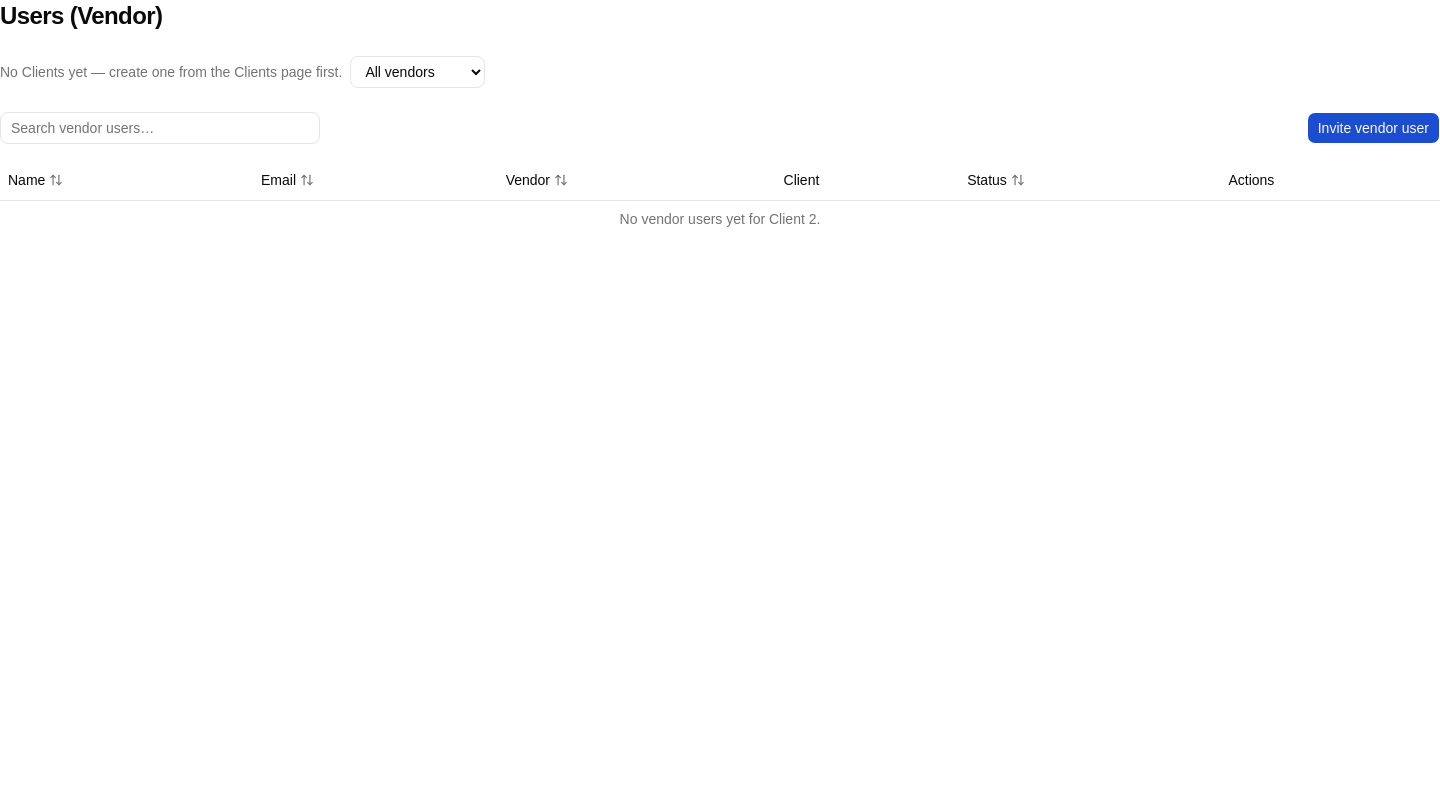
Test: VendorUsersPage › AC: invite/edit flows work end-to-end, scoped by vendor
Click the button "Invite vendor user" at [1373, 128], box x1=1307 y1=112 x2=1439 y2=144
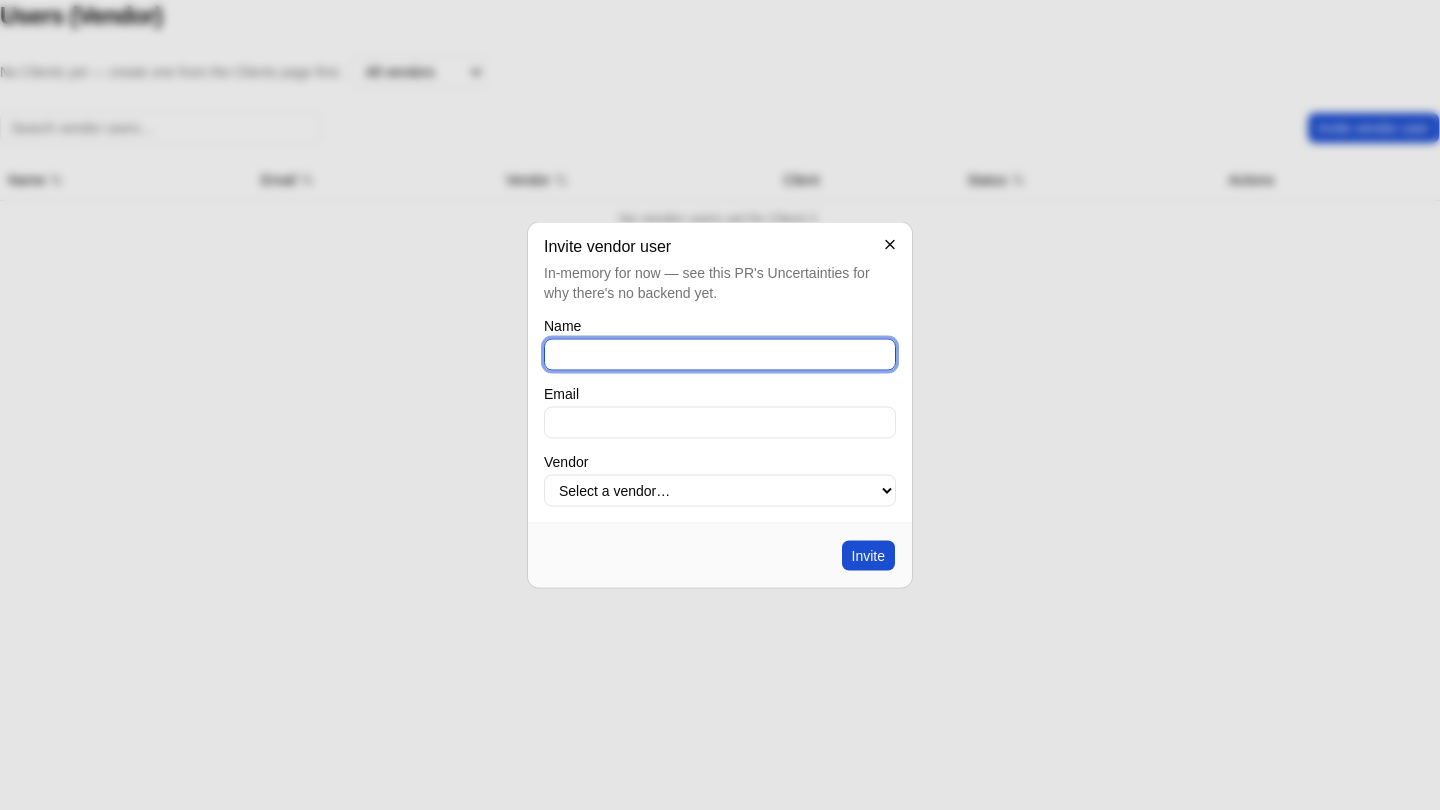
Type "Val Vendor" into the field labelled "Name" at [720, 354], box x1=544 y1=338 x2=896 y2=370
Type "val@acmetrucking.test" into the field labelled "Email" at [720, 422], box x1=544 y1=406 x2=896 y2=438
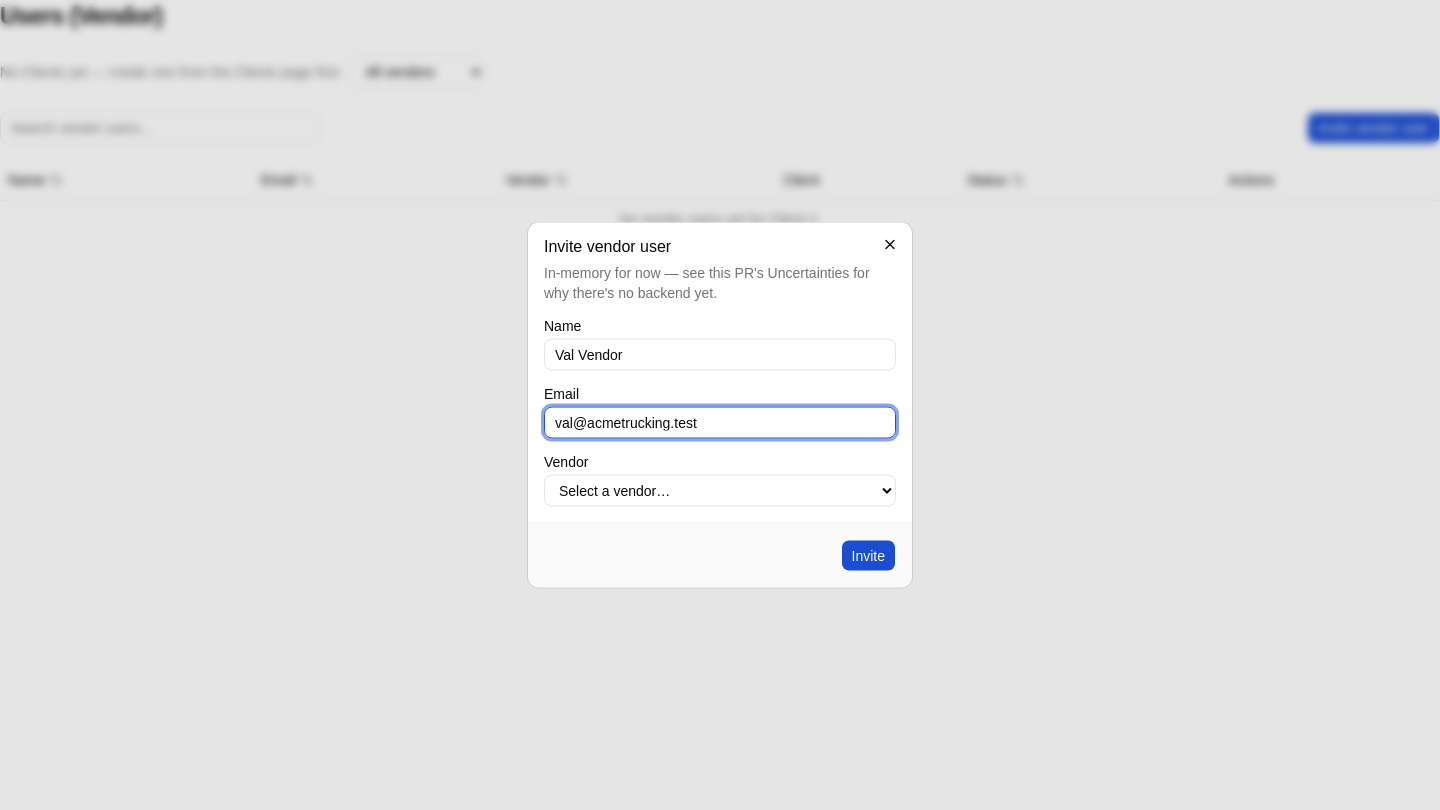
Select "Acme Trucking" in the dropdown labelled "Vendor" at [720, 490], box x1=544 y1=474 x2=896 y2=506
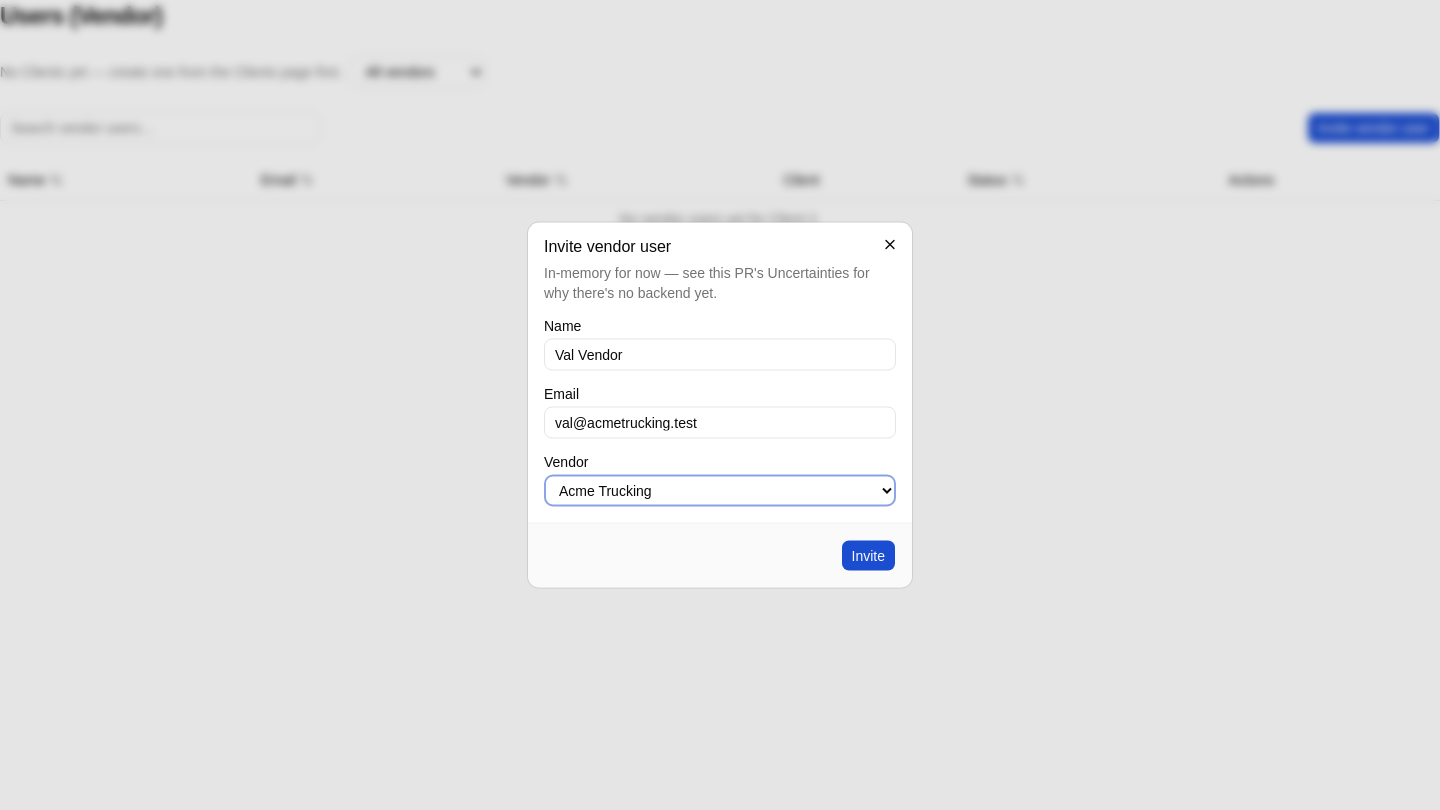
Click the button "Invite" at [868, 556], box x1=840 y1=540 x2=896 y2=572
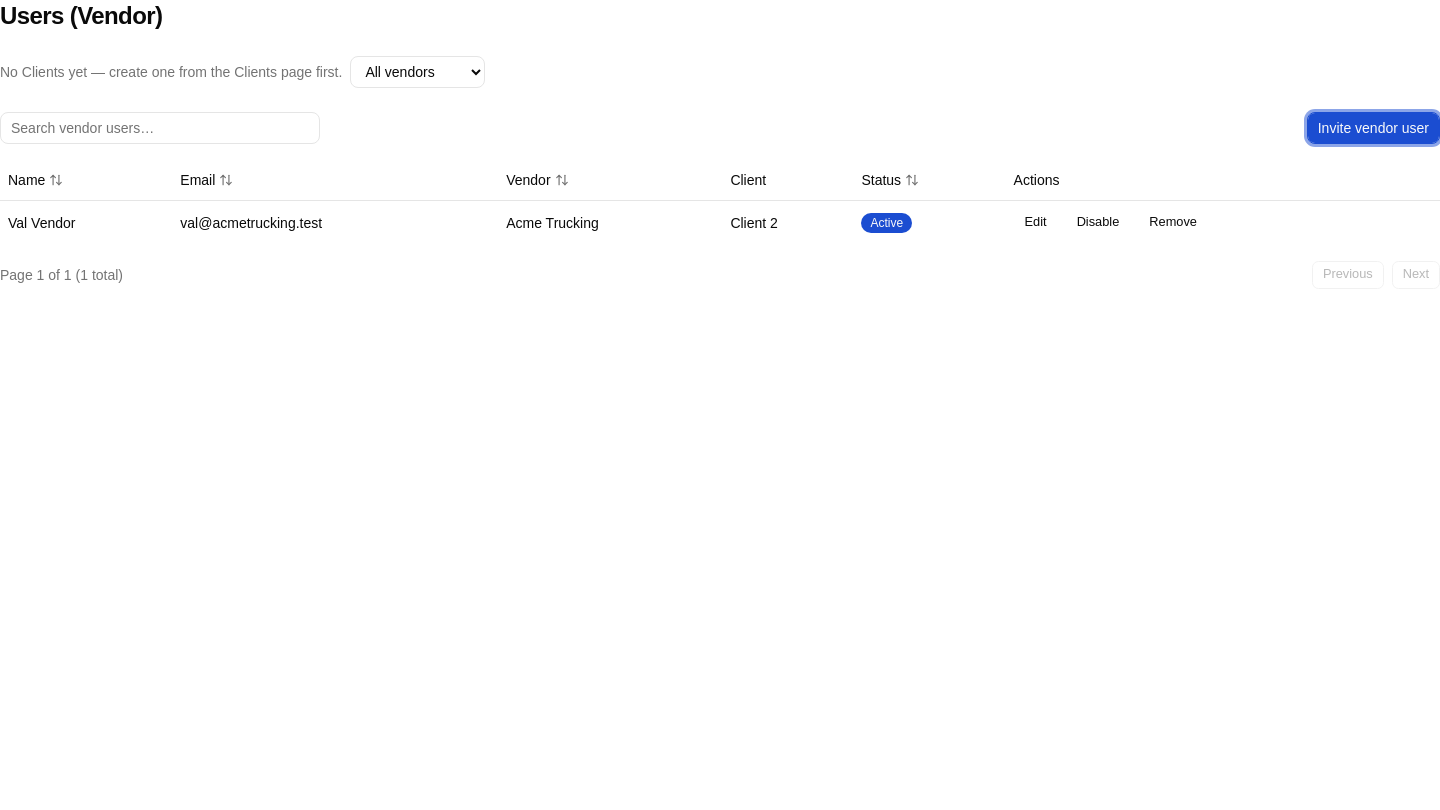
Check: the text "Val Vendor" is shown, box x1=0 y1=200 x2=172 y2=244
Check: the text "Acme Trucking" is shown, box x1=498 y1=200 x2=722 y2=244
Click the button "Edit" at [1036, 222], box x1=1014 y1=208 x2=1058 y2=236
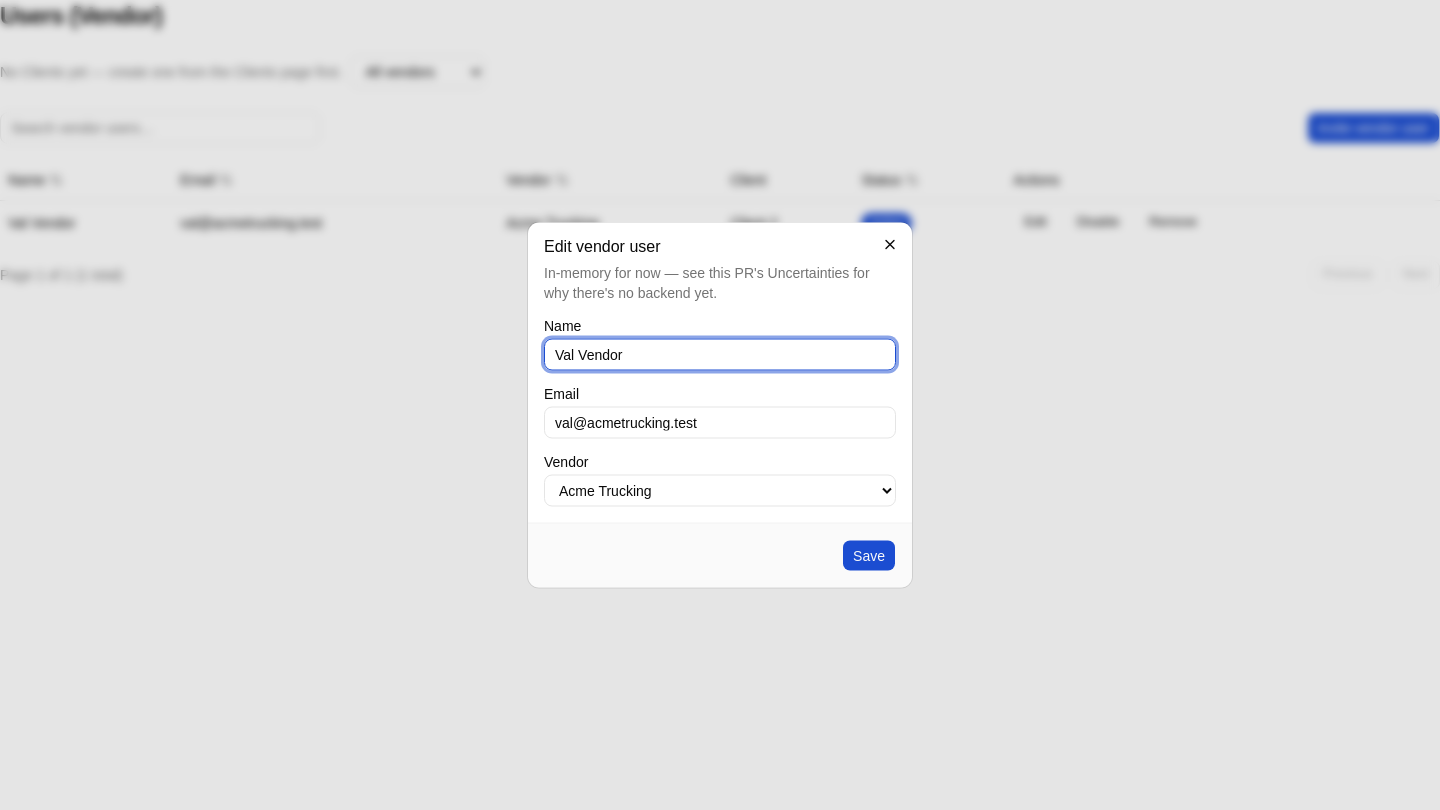
Replace the text in the field labelled "Name" with "Val Renamed" at [720, 354], box x1=544 y1=338 x2=896 y2=370
Click the button "Save" at [869, 556], box x1=842 y1=540 x2=896 y2=572
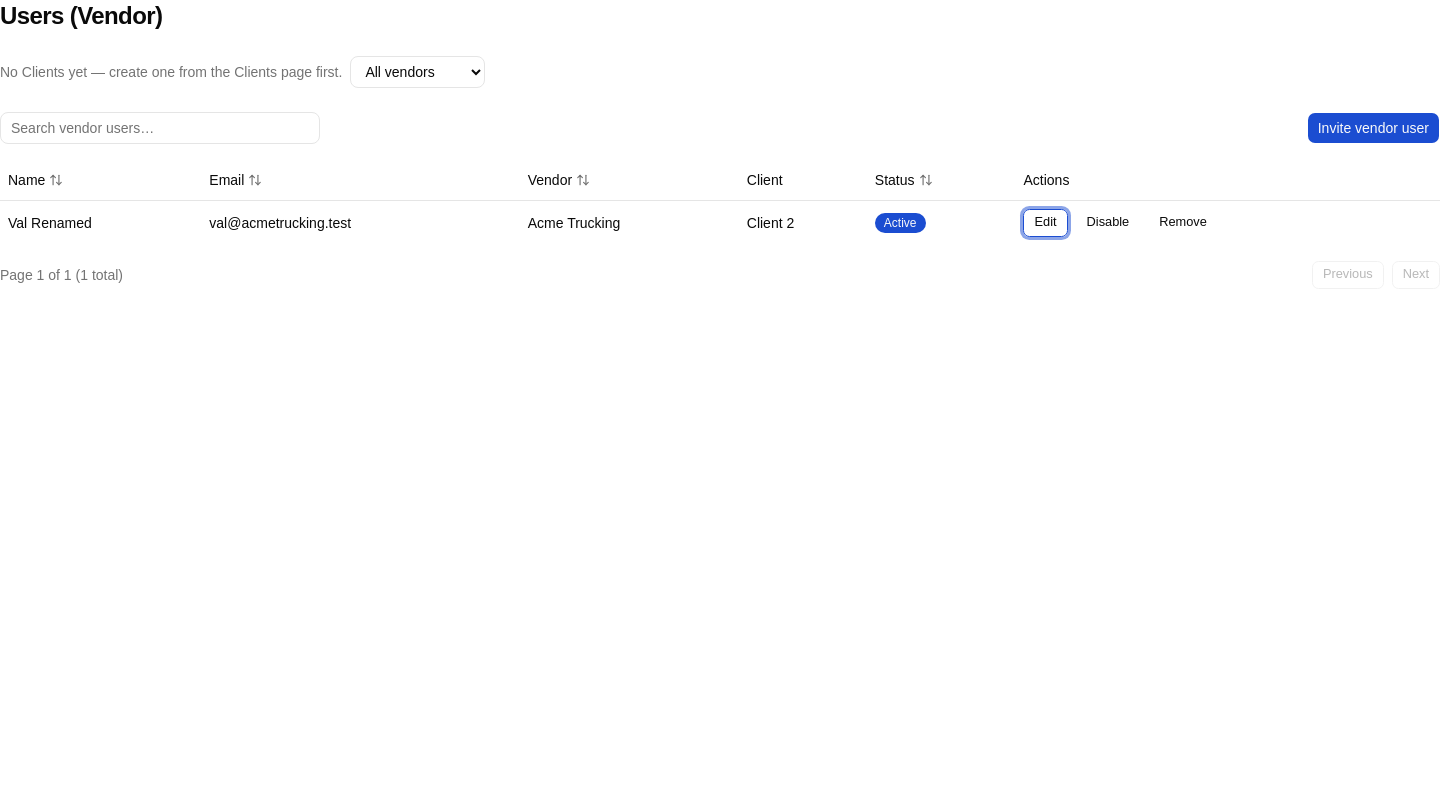
Check: the text "Val Renamed" is shown, box x1=0 y1=200 x2=201 y2=244
